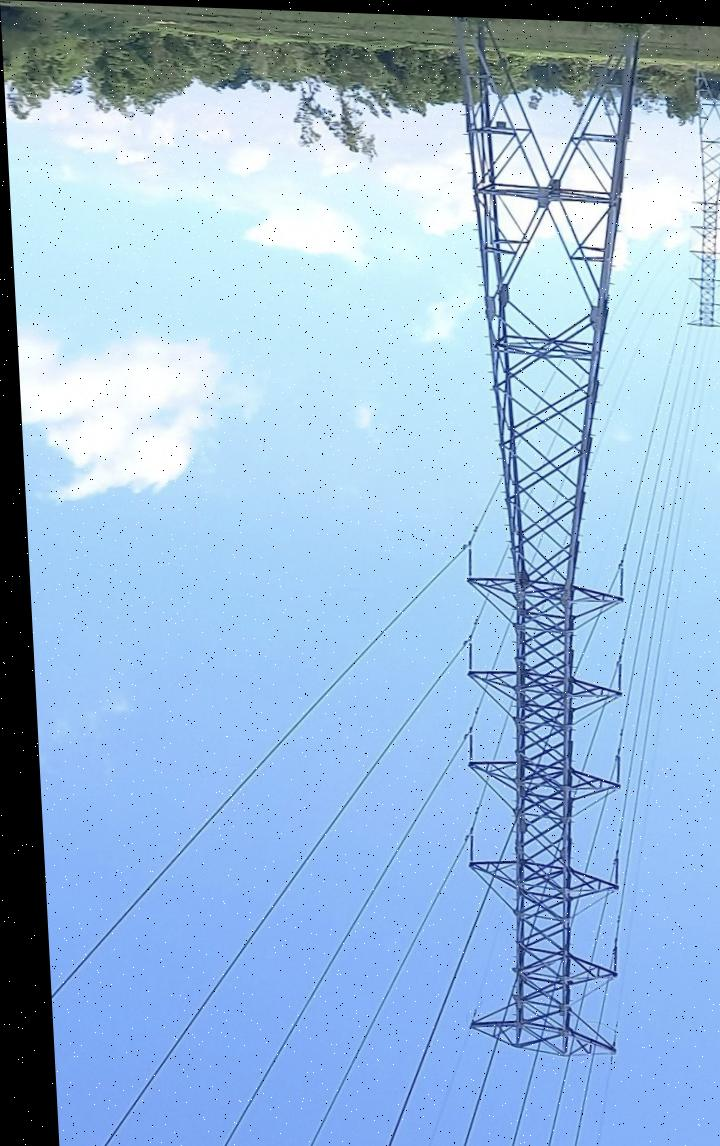tower: (429, 29, 664, 1063)
